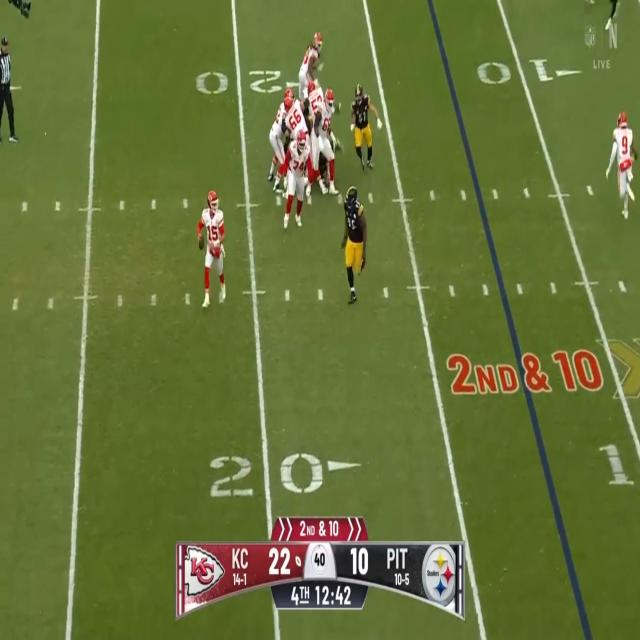Ball: (197, 235, 206, 251)
